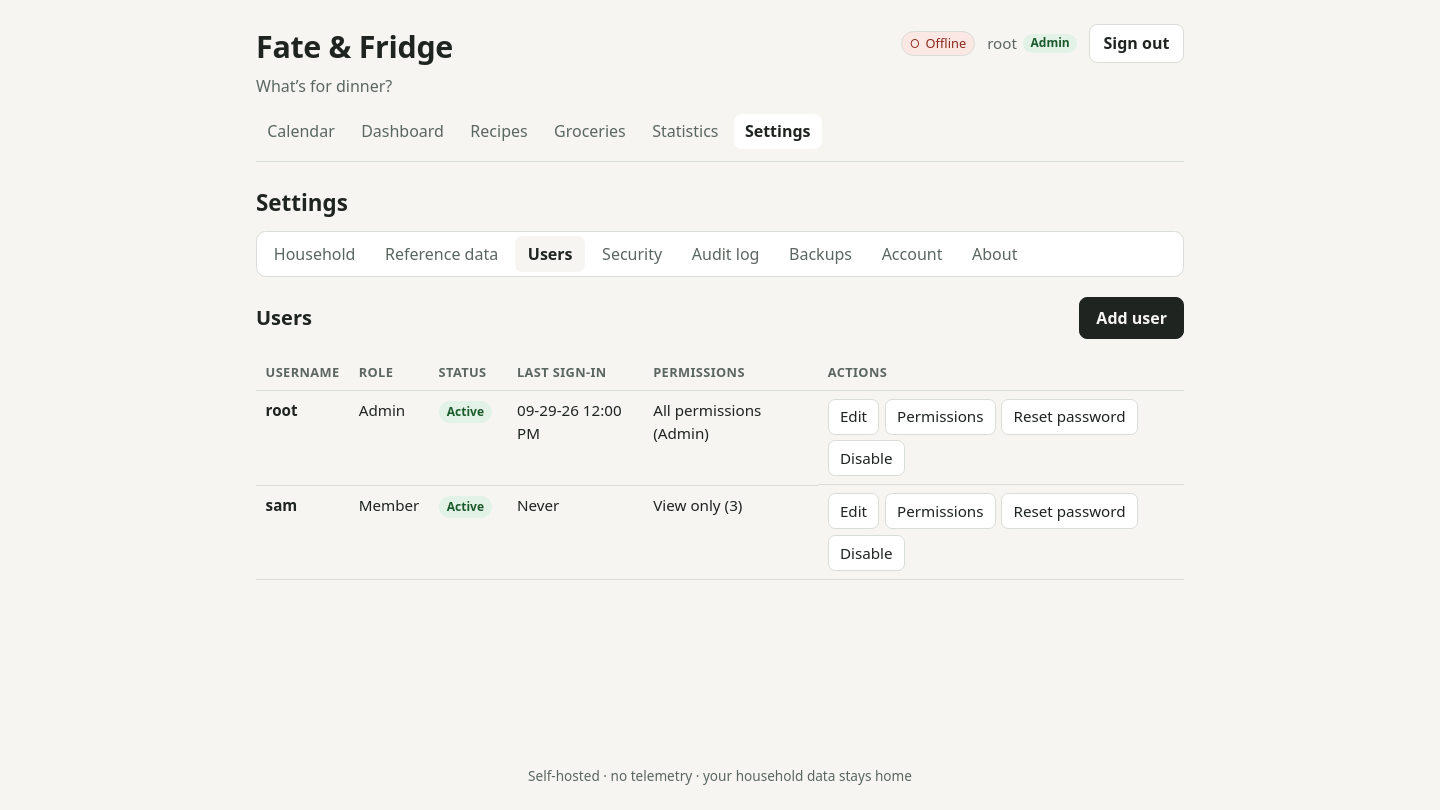
Test case: users section › does not show a one-time password when an explicit password is sent
Click the button "Add user" at (1132, 318), box [1079, 297, 1184, 339]
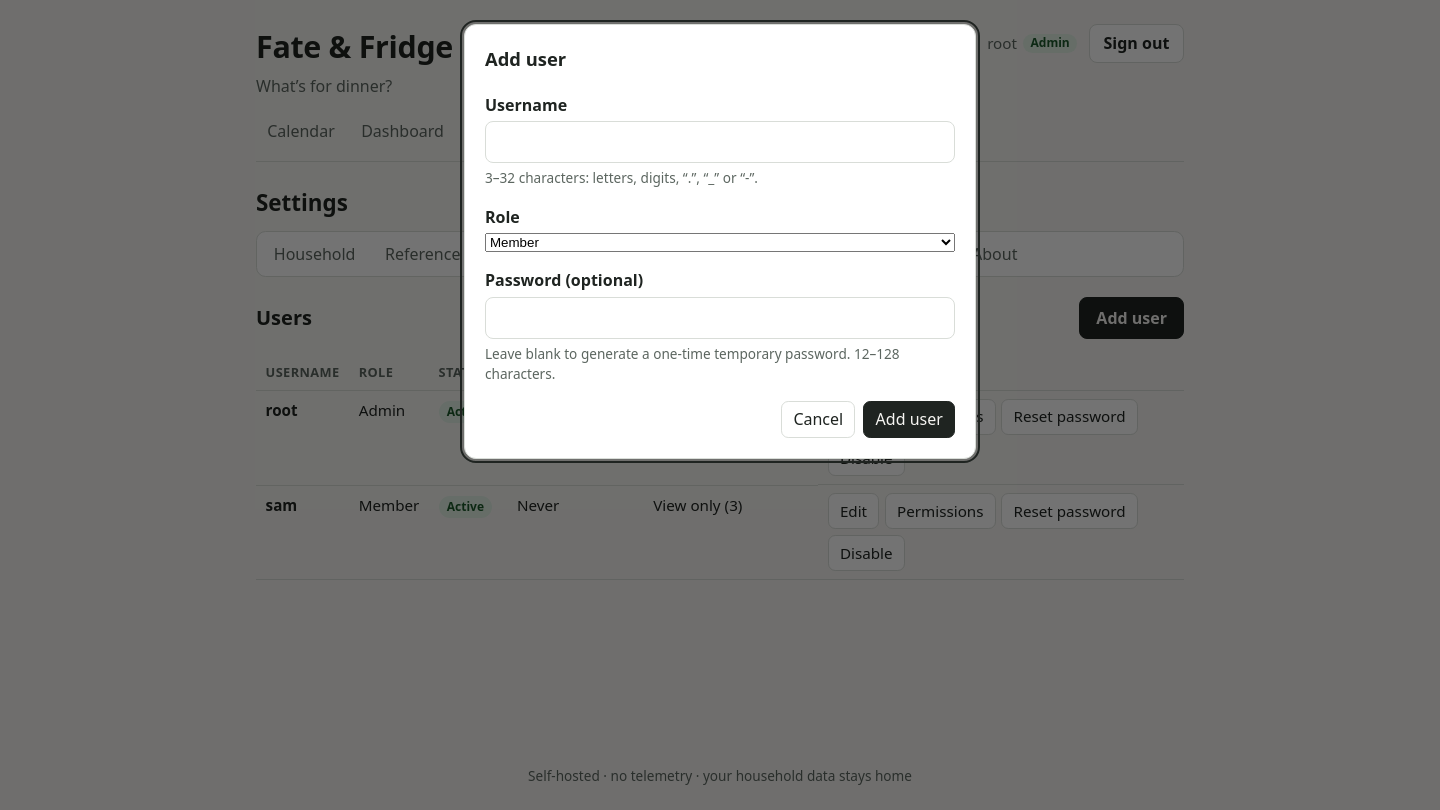
Type "explicit" into the field labelled "Username" at (720, 142), box [485, 121, 955, 163]
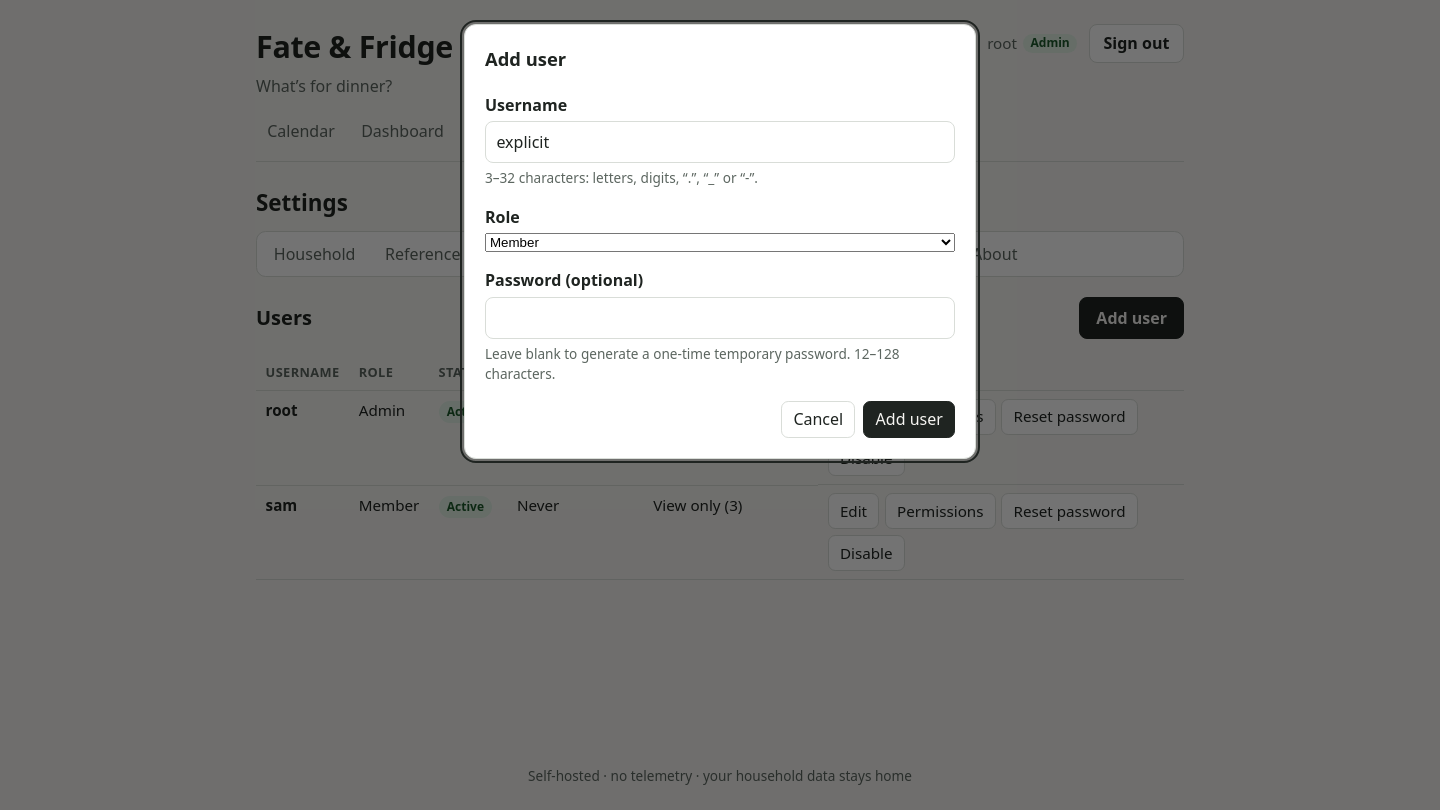
Type "a much better passphrase" into the password field labelled "Password (optional)" at (720, 318), box [485, 297, 955, 339]
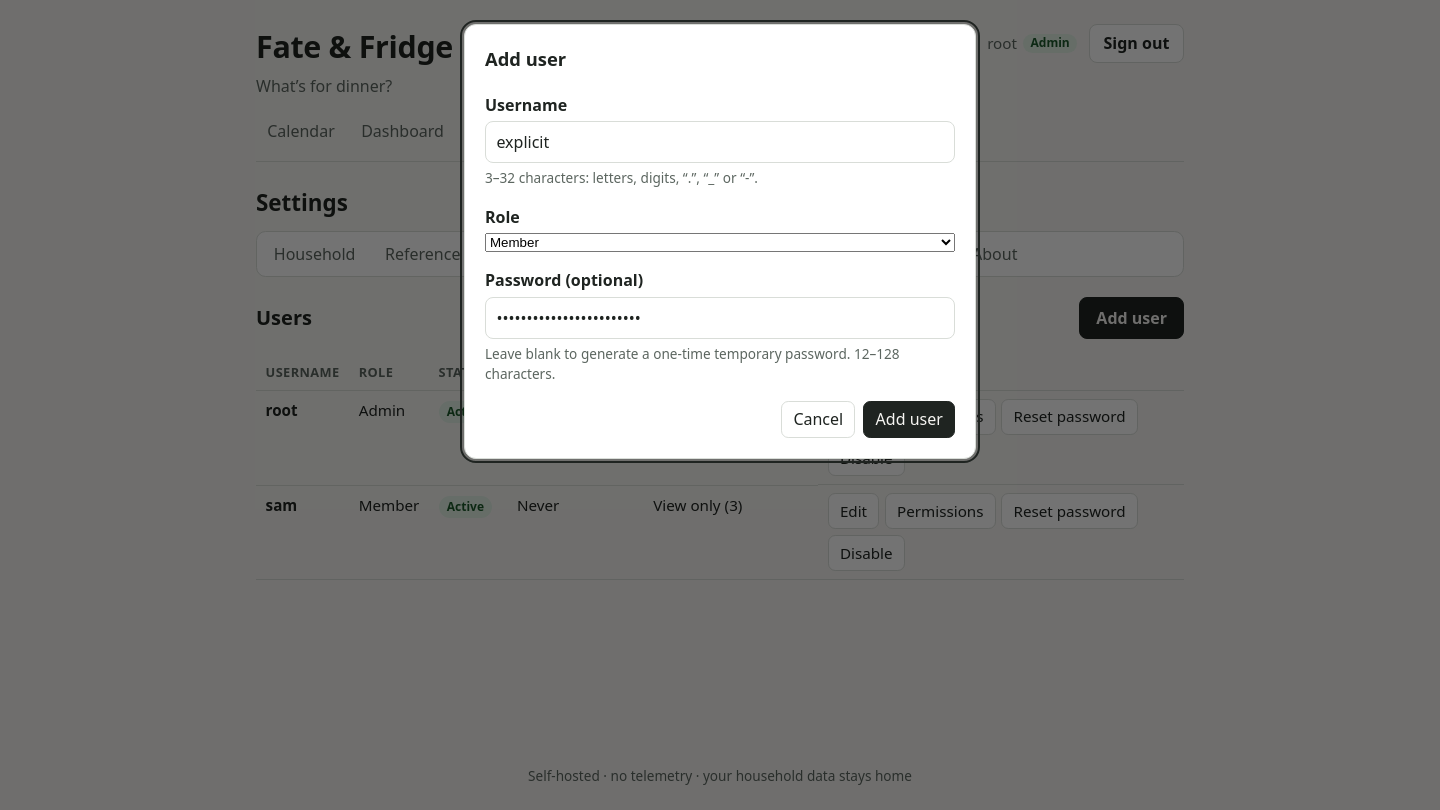
Click the button "Add user" at (909, 419), box [863, 401, 955, 438]
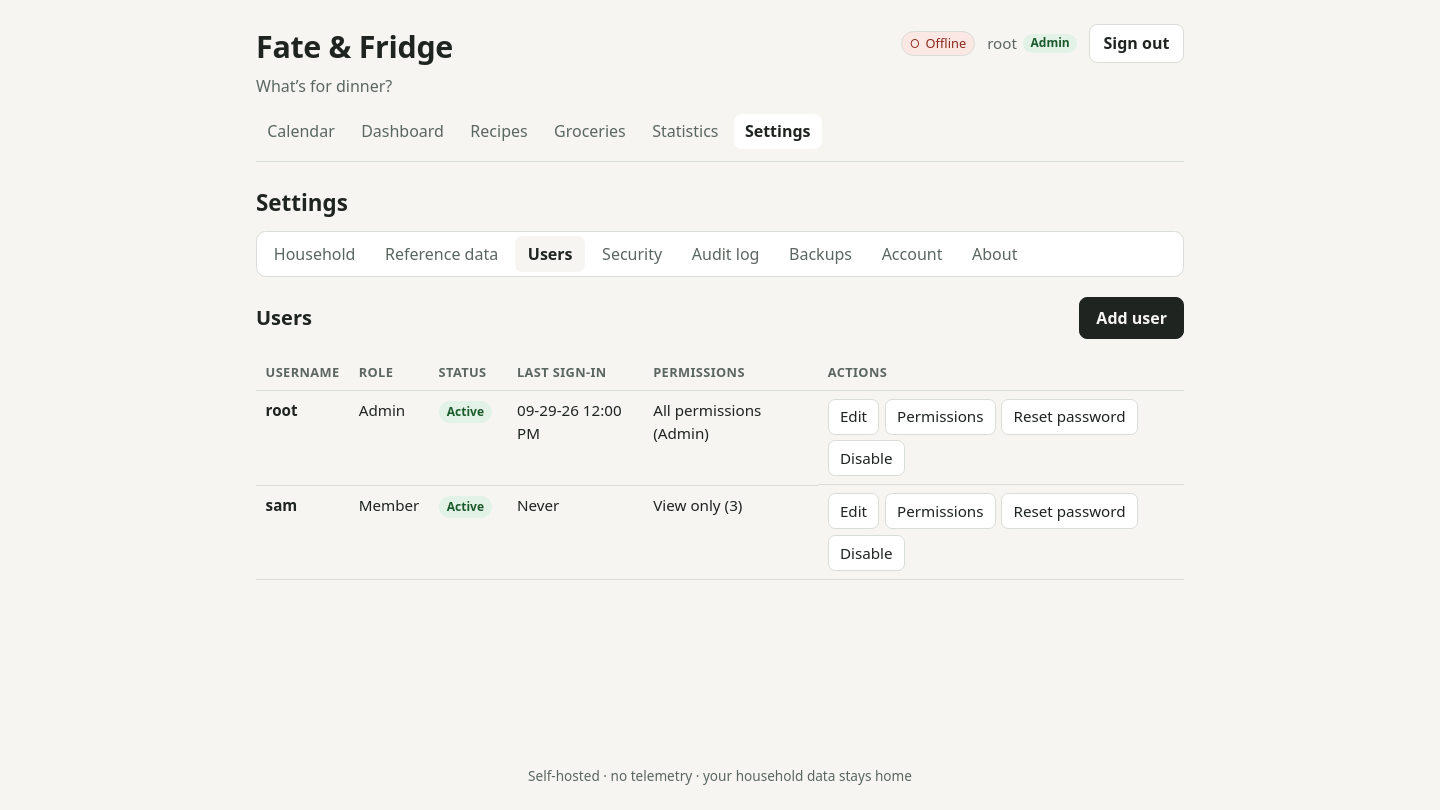
Expected: the text "temporary password" is gone
